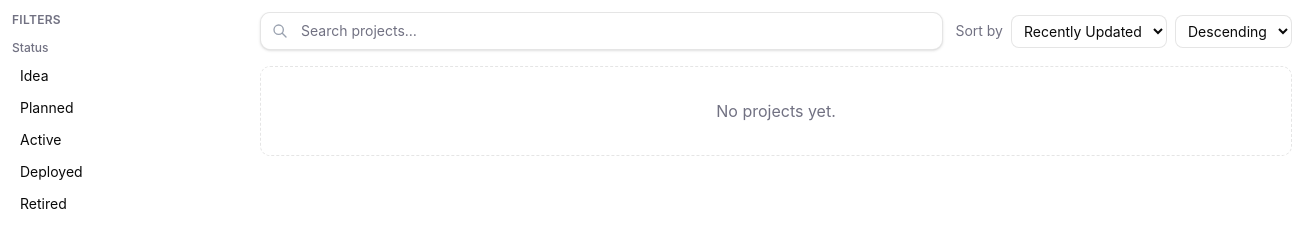
Test case: ProjectsListClient › shows filter empty state when filters are active
This screenshot has width=1304, height=226.
// Click the 'Active' status filter button to set a status filter
Click the button "Active" at (124, 140), box [12, 126, 236, 154]
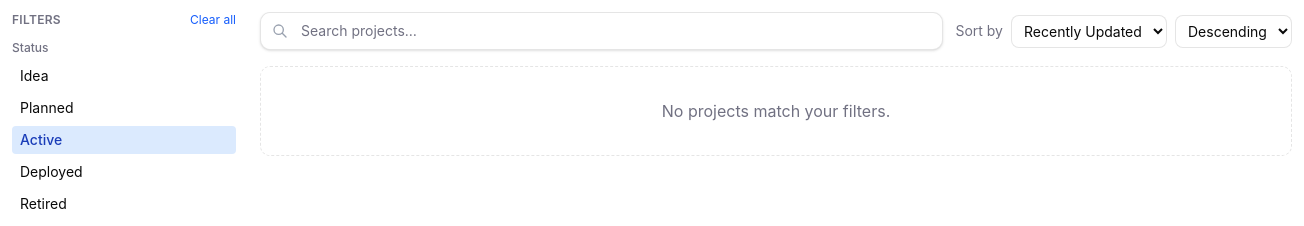
Check: the text "No projects match your filters." is shown, box [662, 101, 890, 121]
